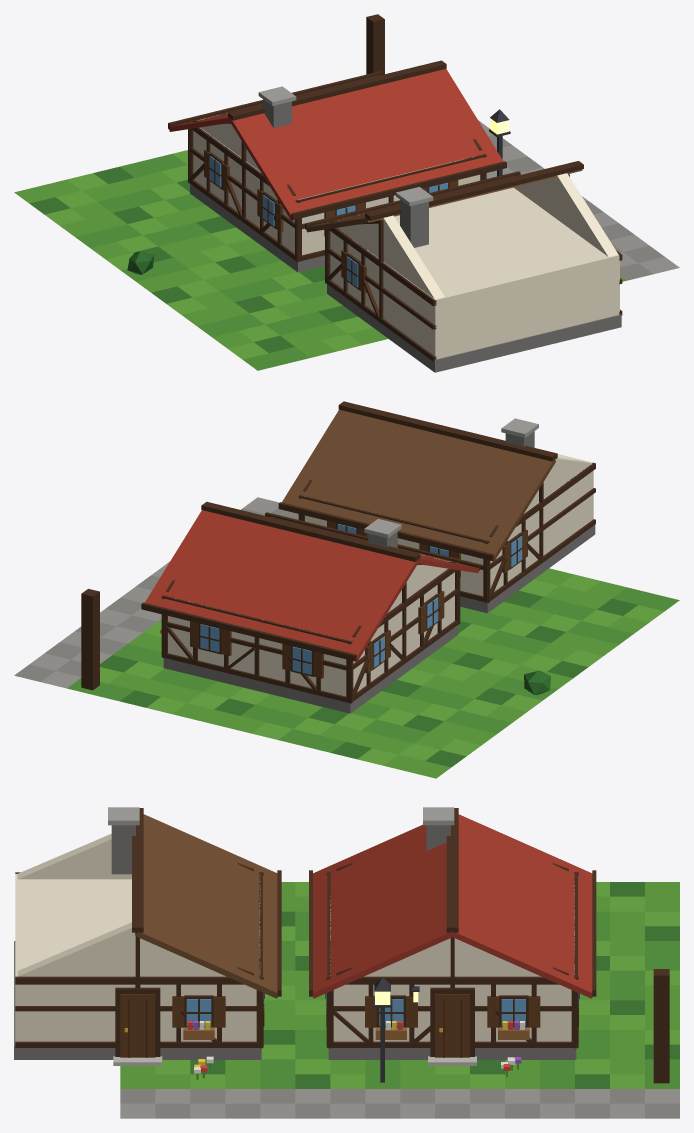
Rendered from chunk_1_6.glb.
The picture shows the model from 3 angles, top to bottom: view 1: azimuth 30°, elevation 25°; view 2: azimuth 150°, elevation 25°; view 3: azimuth 270°, elevation 25°; orthographic projection. The views are drawn at different scales.
Parts seen in each view (by area): view 1: chunk_1_6; view 2: chunk_1_6; view 3: chunk_1_6.
Part boxes in pixels (x1,y1,x2,y2): chunk_1_6: (14,14,679,372); chunk_1_6: (14,401,679,778); chunk_1_6: (14,807,679,1118).
Bounding box in the file's own units: 16.01 × 5.05 × 19.04.
